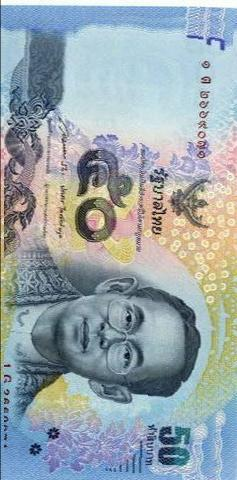50BahtTai: (4, 9, 234, 475)
